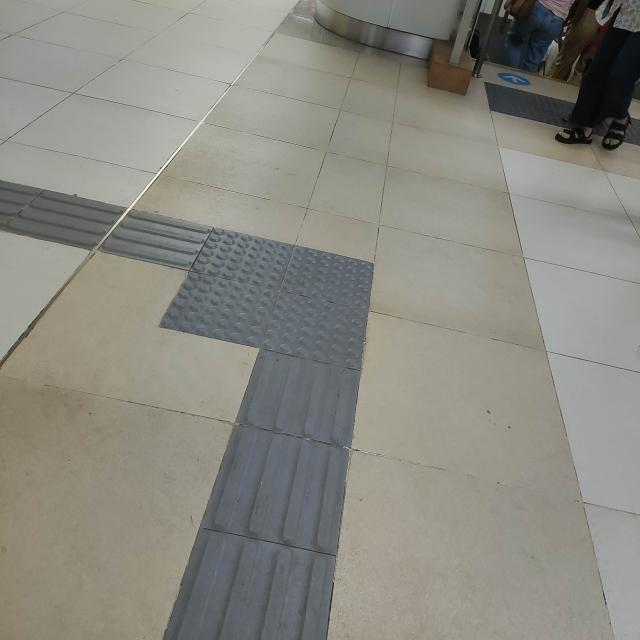kiri: (70, 164, 427, 418)
